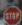Stop sign: (0, 0, 21, 24)
